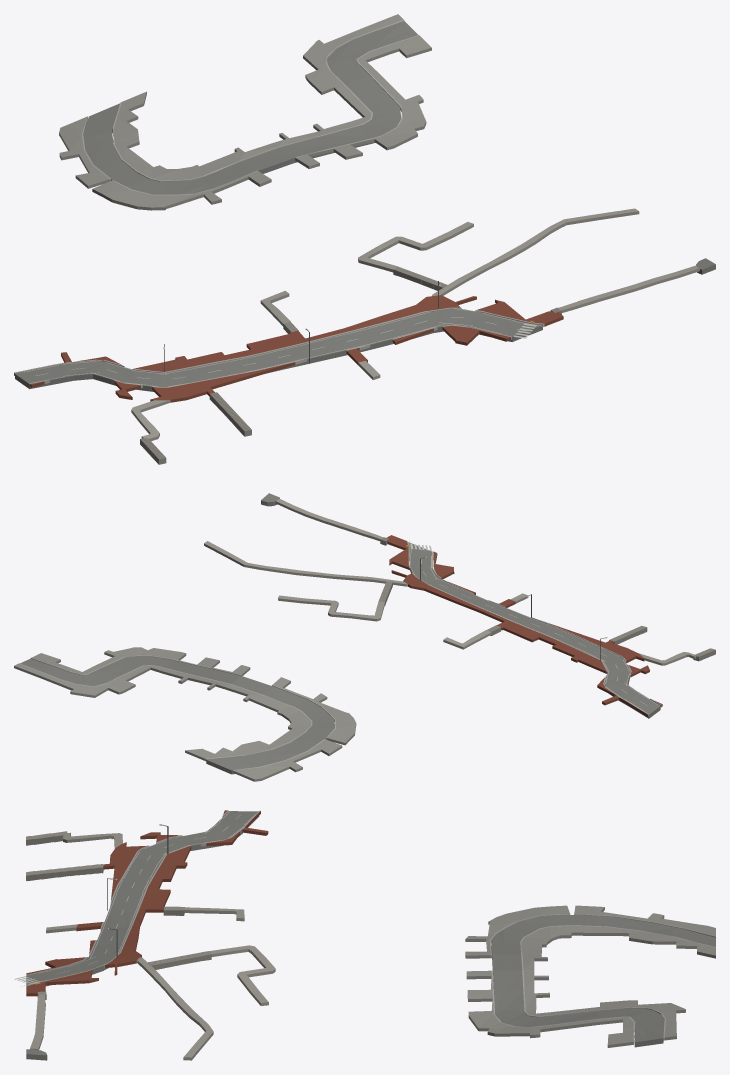
3 views of the same model, one above another, from view 1: azimuth 30°, elevation 25°; view 2: azimuth 150°, elevation 25°; view 3: azimuth 270°, elevation 25° (orthographic). The views are drawn at different scales.
Bounding box in the file's own units: 147 × 19.63 × 148.
